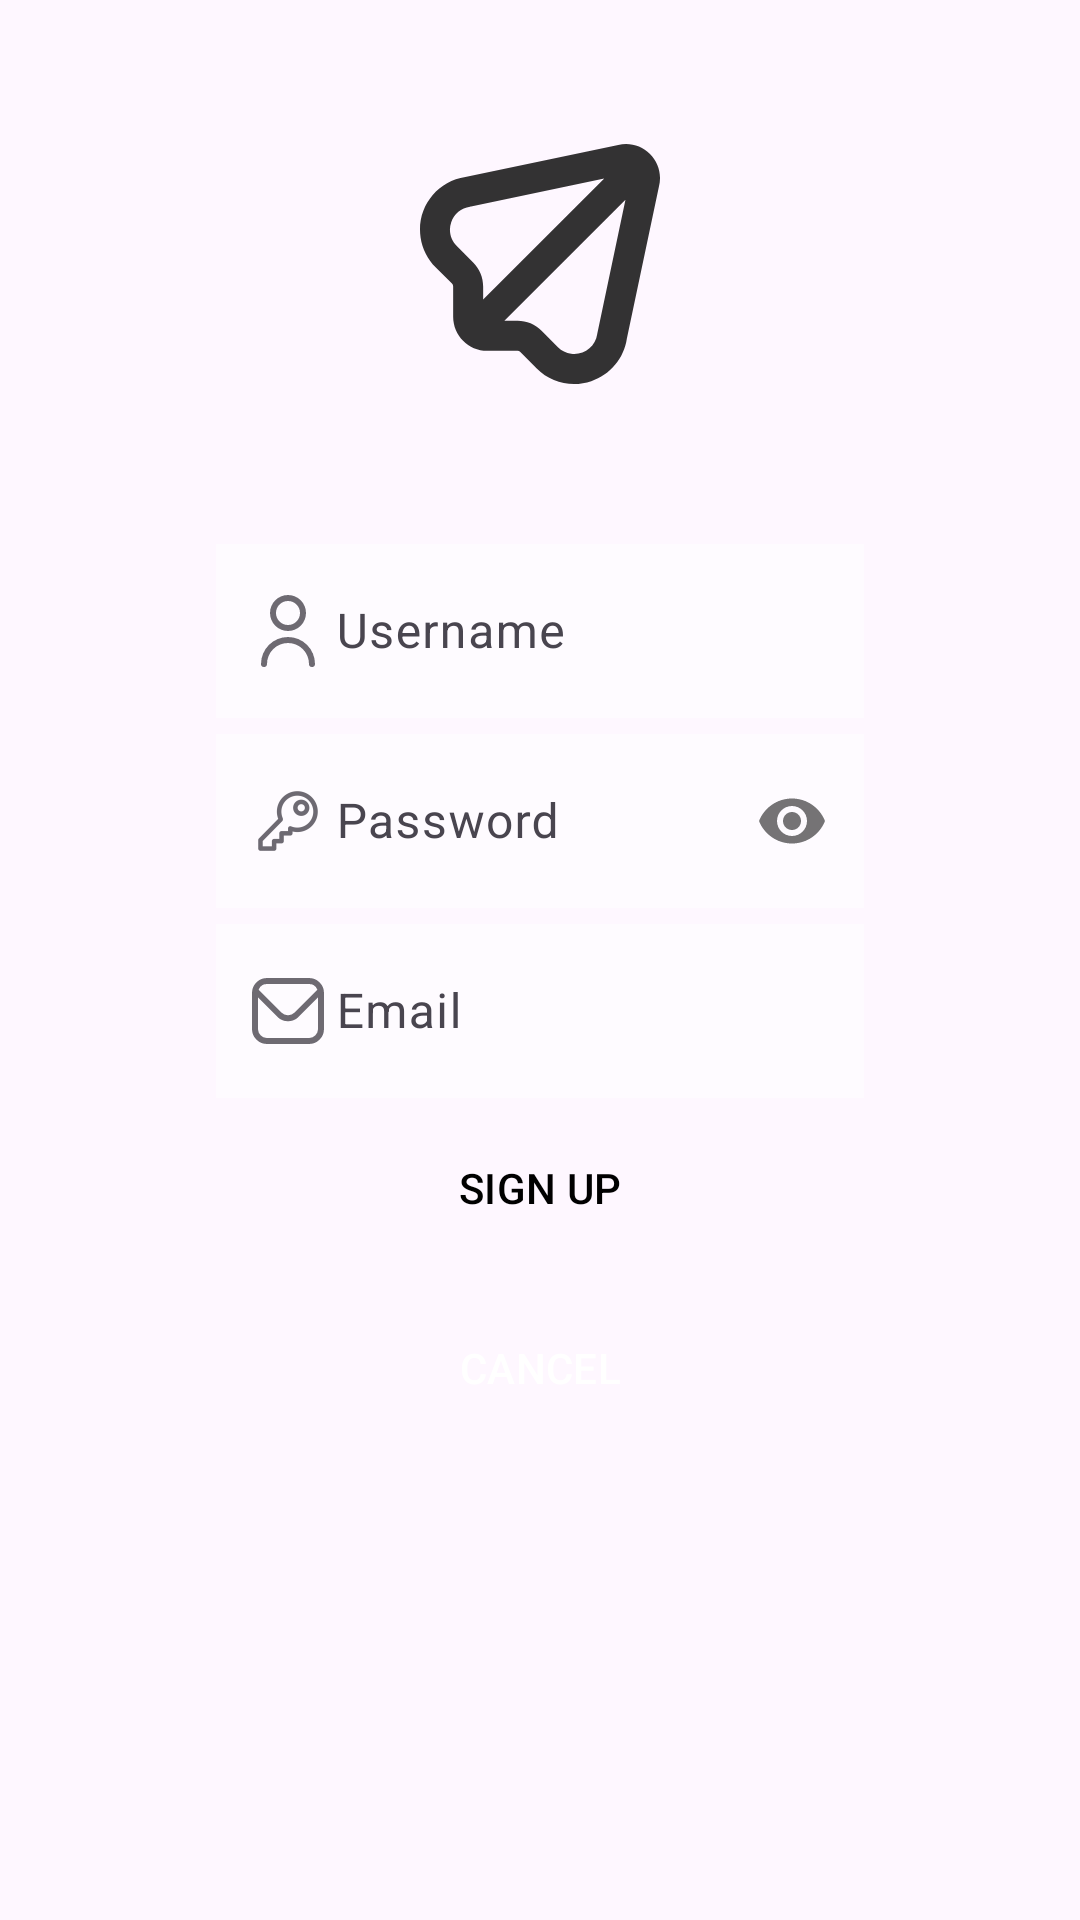

Screen size 1080 × 1920. Icon name, then its box in pixels as bbox=[x1, y1, x2, y2]:
avion de papel: bbox=[420, 144, 660, 384]
